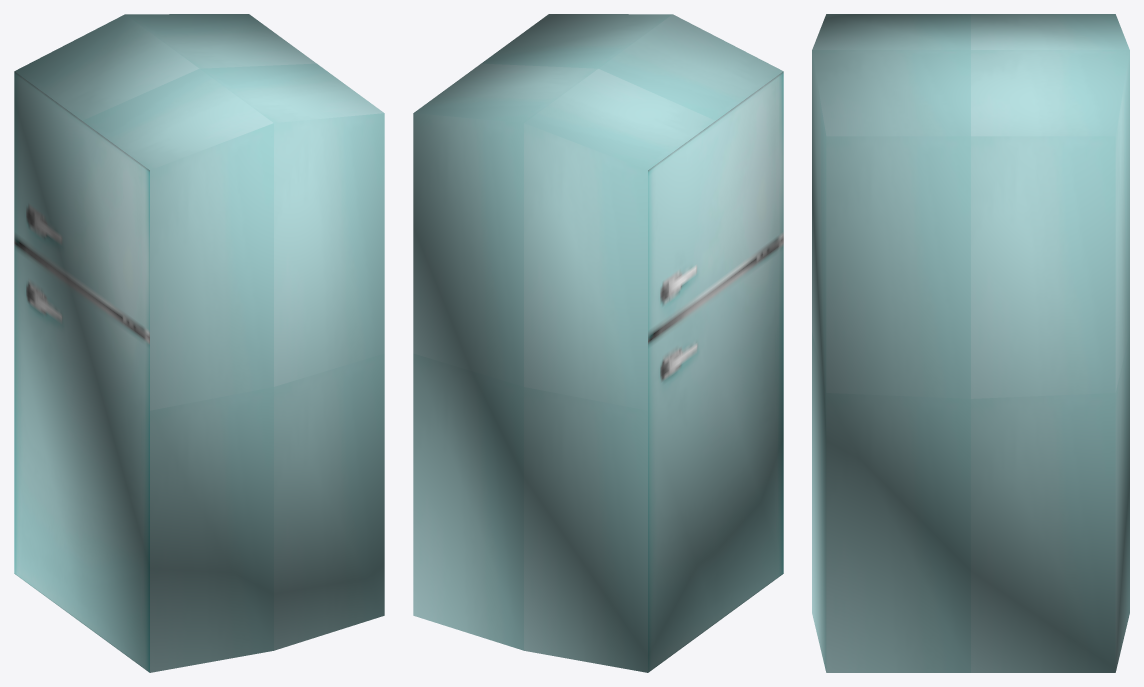
Rendered from fridge.fbx.
3 views of the same model, side by side, from view 1: azimuth 30°, elevation 25°; view 2: azimuth 150°, elevation 25°; view 3: azimuth 270°, elevation 25° (orthographic). The views are drawn at different scales.
Visible parts, largest first — view 1: fridge; view 2: fridge; view 3: fridge.
Boxes of the visible parts, x1,y1,x2,y2 form: fridge: (14,14,384,672); fridge: (413,14,783,672); fridge: (812,14,1129,672).
Size of the model in its own units: 153 by 312 by 159.
Materials: 1 (1 with a texture image).
